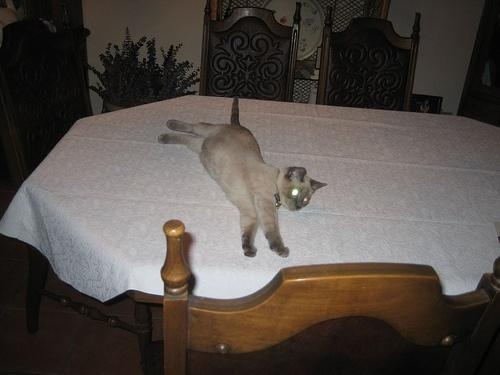cat: (157, 92, 330, 262)
chair: (2, 14, 158, 375), (157, 214, 500, 375), (312, 5, 426, 116), (194, 1, 303, 107)
diningtable: (1, 89, 500, 375)
